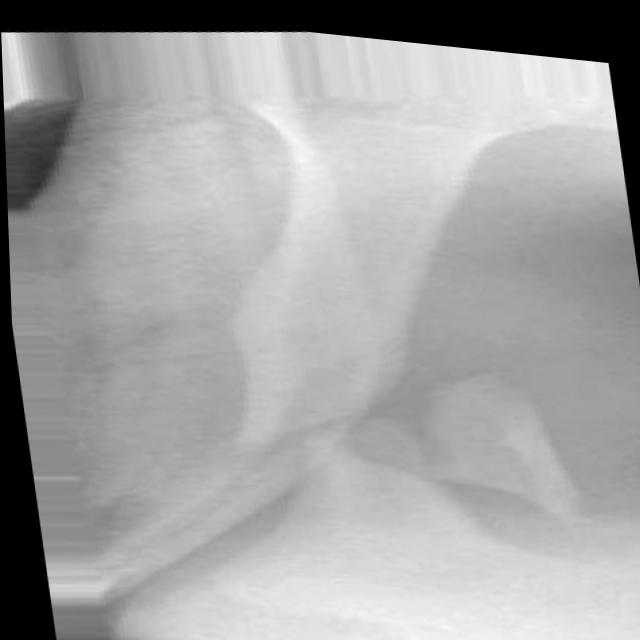fracture: (203, 343, 565, 528)
